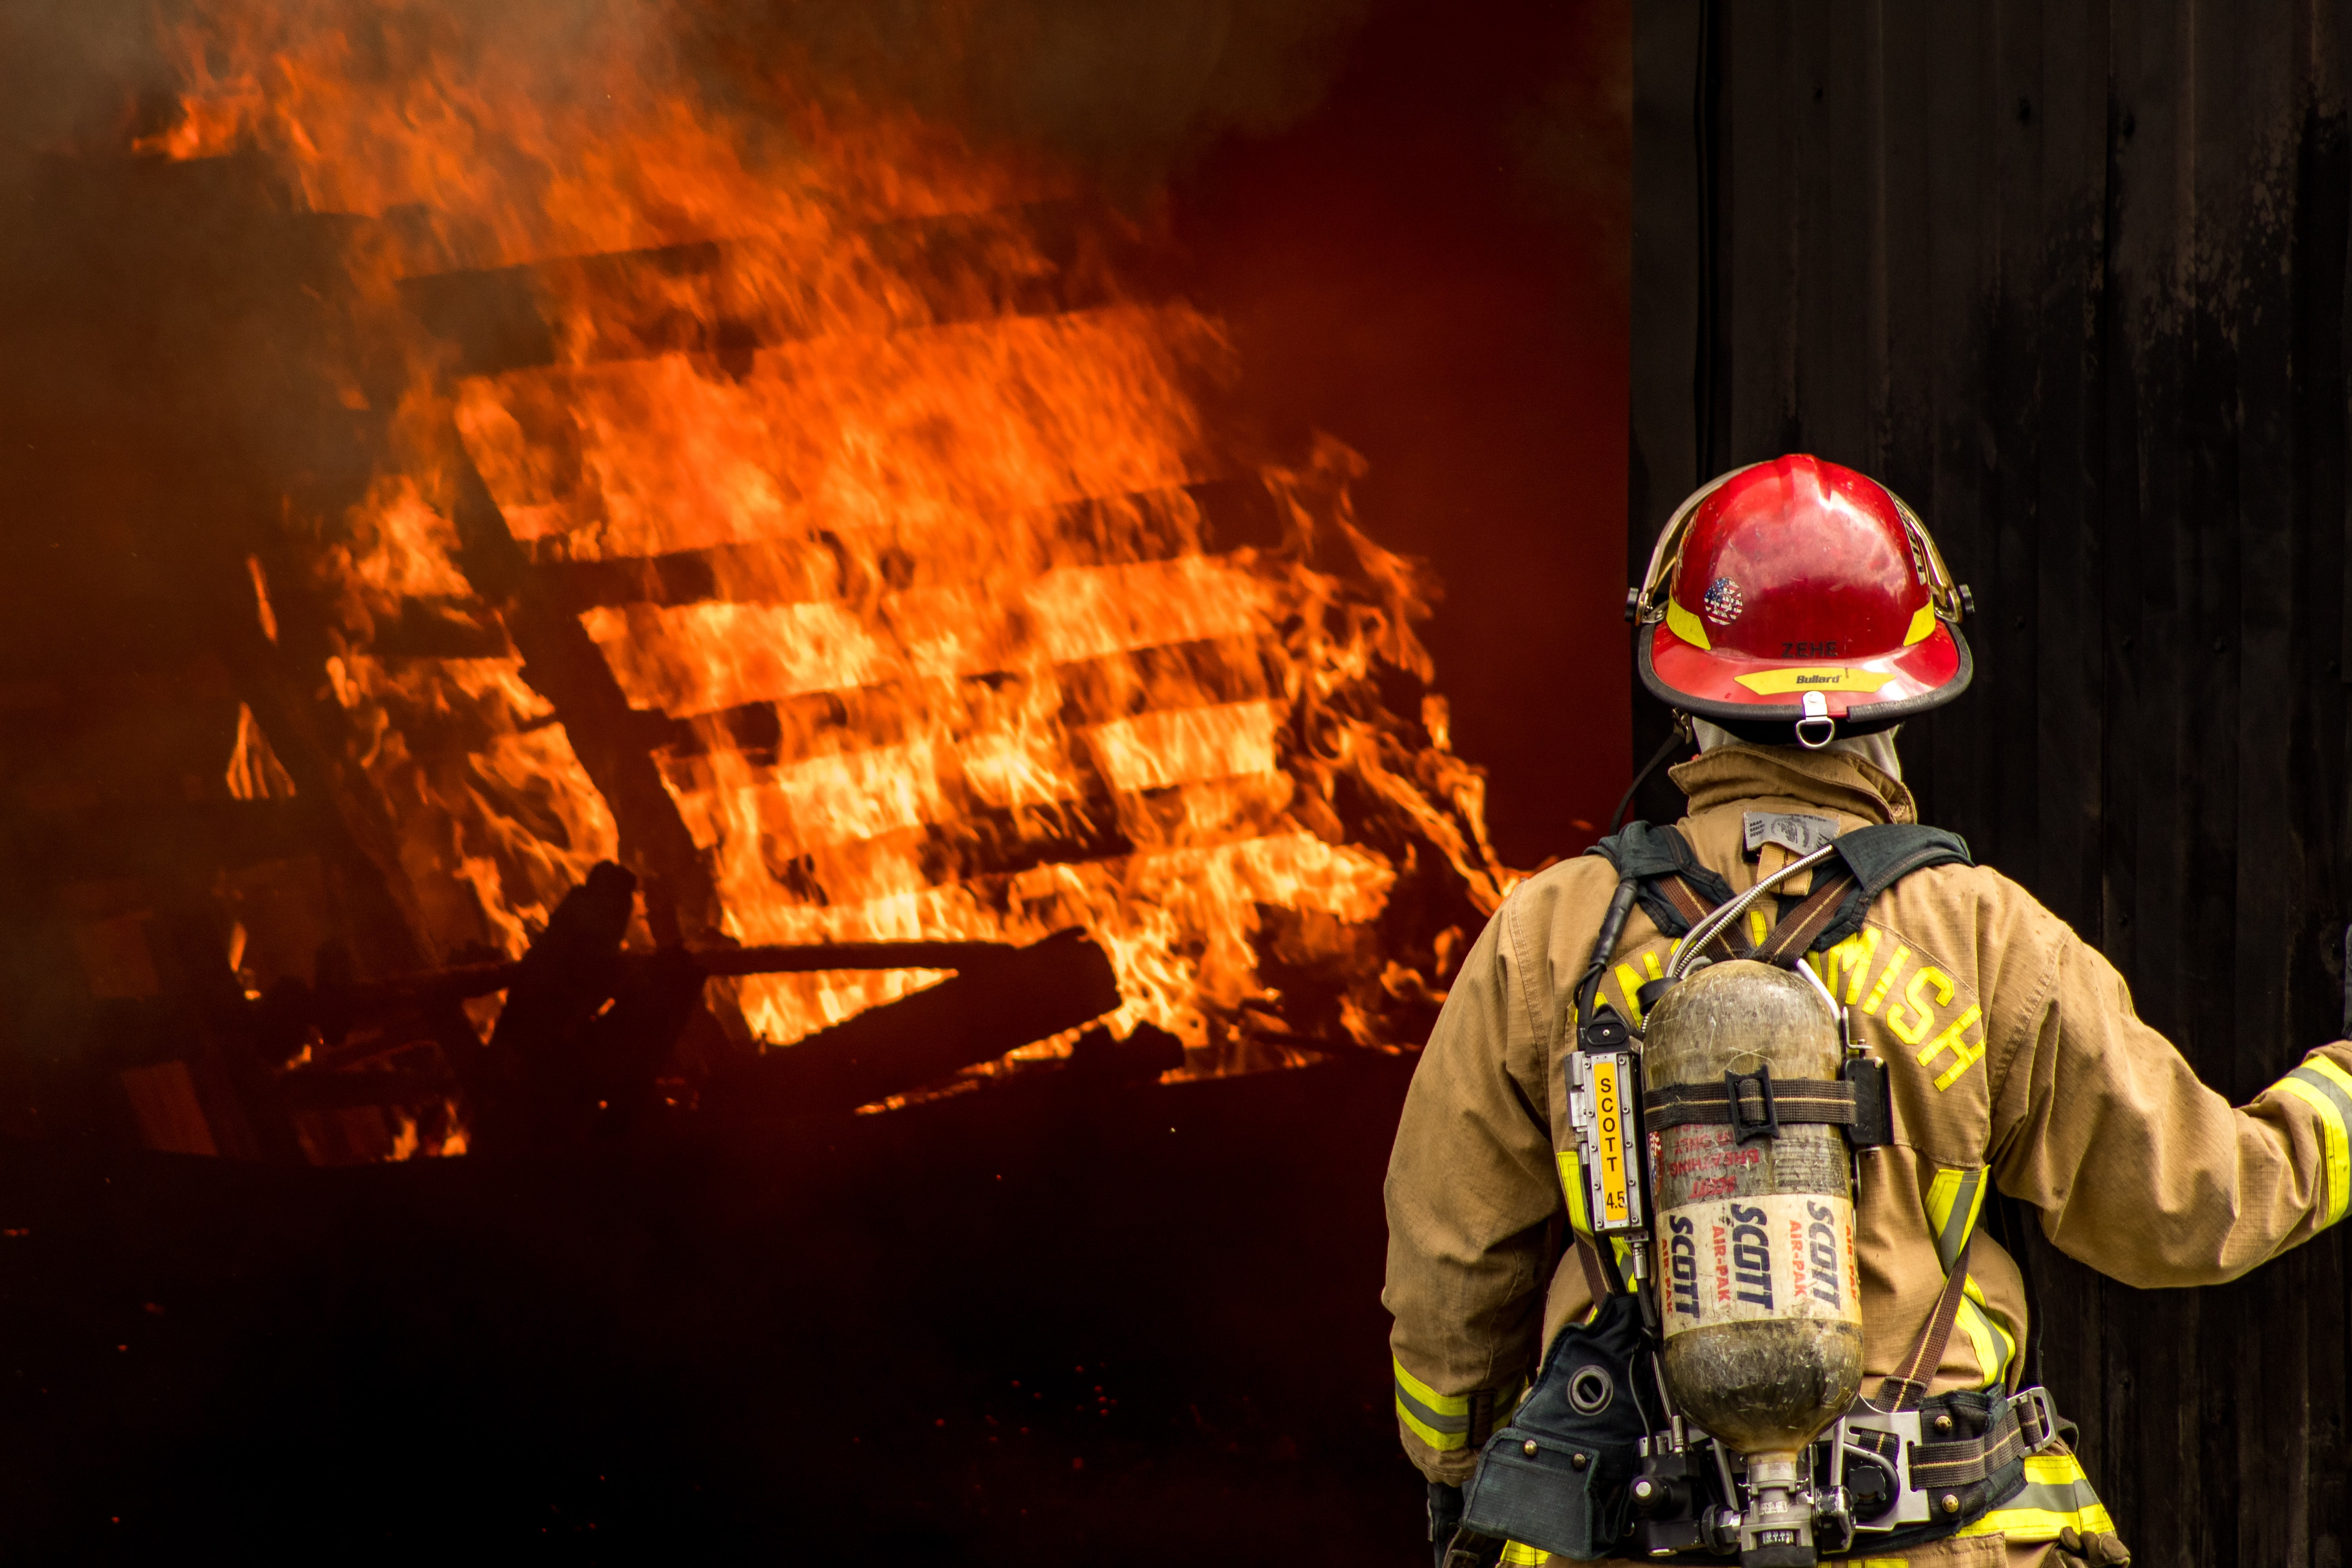emergent: (1379, 411, 2352, 1552)
